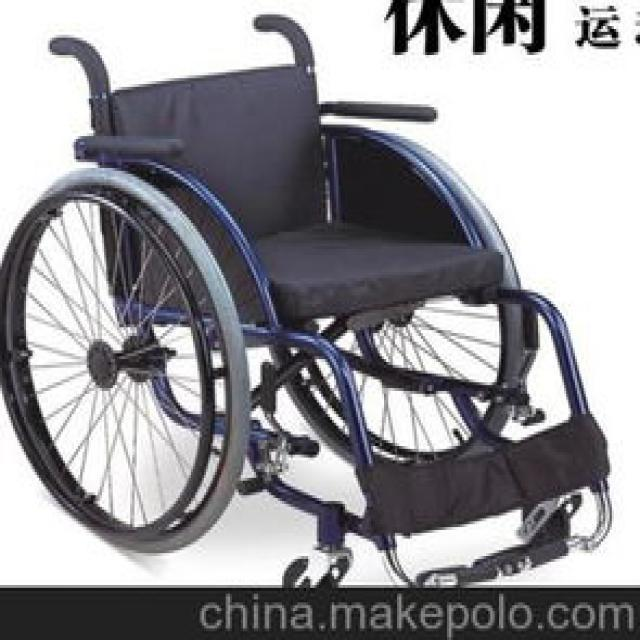wheelchair: (6, 8, 638, 580)
